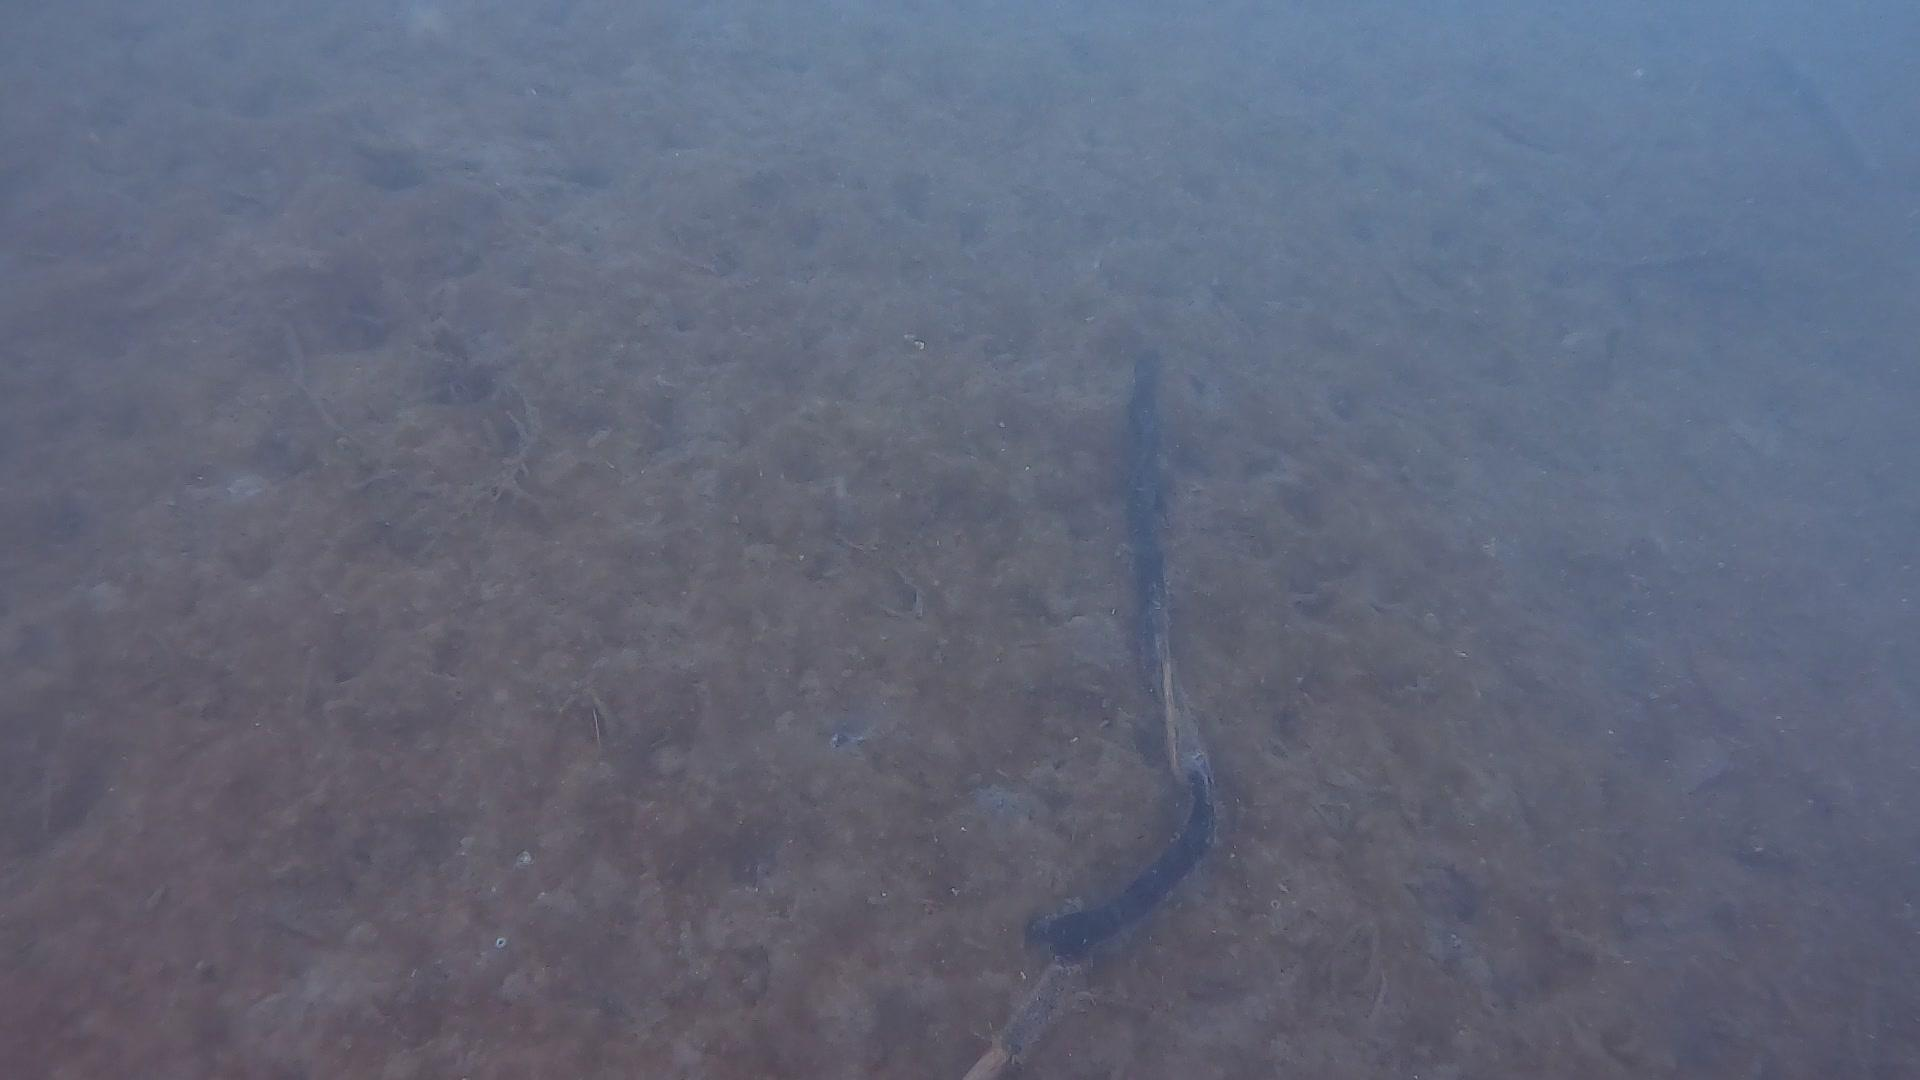wood: (1025, 347, 1218, 956)
